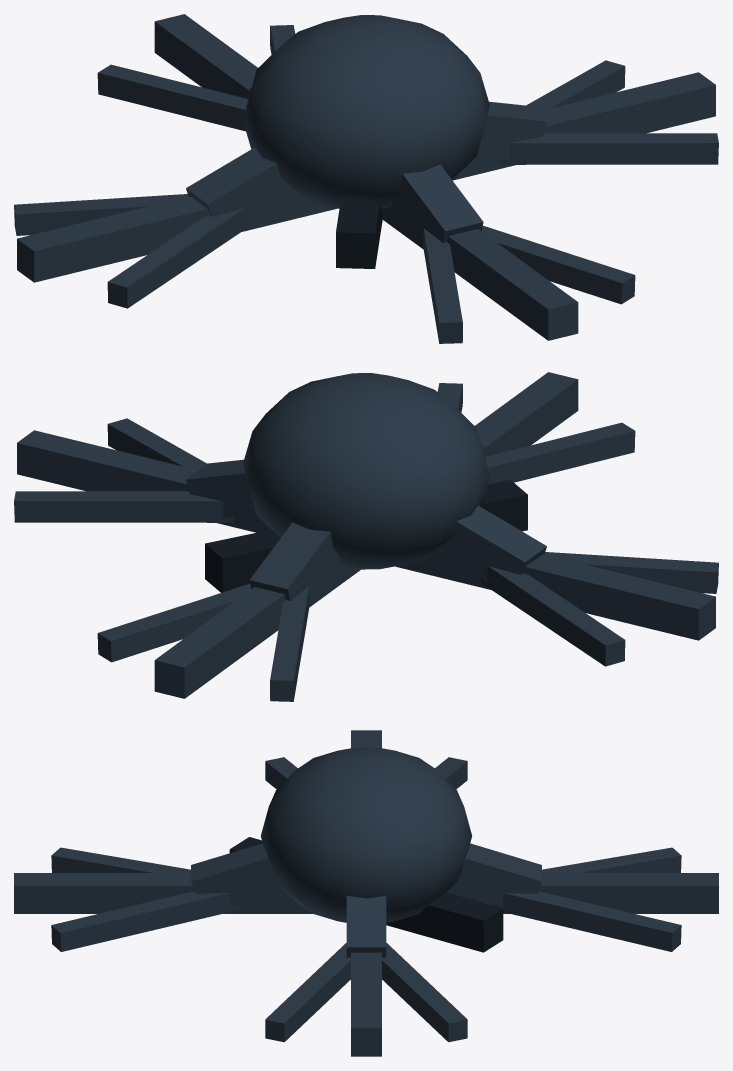
The model's file is CMU3DHiveXenoHardyWeedsSourceHidden.glb.
The picture shows the model from 3 angles, top to bottom: view 1: azimuth 30°, elevation 25°; view 2: azimuth 150°, elevation 25°; view 3: azimuth 270°, elevation 25°; orthographic projection. The views are drawn at different scales.
Parts seen in each view (by area): view 1: root nodule, tile-joining root (×4), branching ground filament (×7), anchoring root (×3), central ground rhizome; view 2: root nodule, tile-joining root (×4), branching ground filament (×7), anchoring root (×3), central ground rhizome; view 3: root nodule, branching ground filament (×8), tile-joining root (×4), anchoring root (×3), central ground rhizome.
Part boxes in pixels (x1,y1,x2,y2): root nodule: [243, 15, 489, 208]; tile-joining root (×4): [17, 14, 715, 340]; branching ground filament (×7): [14, 60, 718, 343]; anchoring root (×3): [186, 101, 546, 243]; central ground rhizome: [336, 201, 382, 268]; root nodule: [243, 373, 489, 569]; tile-joining root (×4): [17, 372, 715, 698]; branching ground filament (×7): [14, 418, 718, 701]; anchoring root (×3): [186, 459, 546, 601]; central ground rhizome: [205, 479, 527, 592]; root nodule: [261, 747, 471, 922]; branching ground filament (×8): [51, 757, 681, 1042]; tile-joining root (×4): [14, 730, 718, 1056]; anchoring root (×3): [191, 843, 541, 957]; central ground rhizome: [229, 837, 503, 952].
Size of the model in its own units: 1 by 0.24 by 1.
